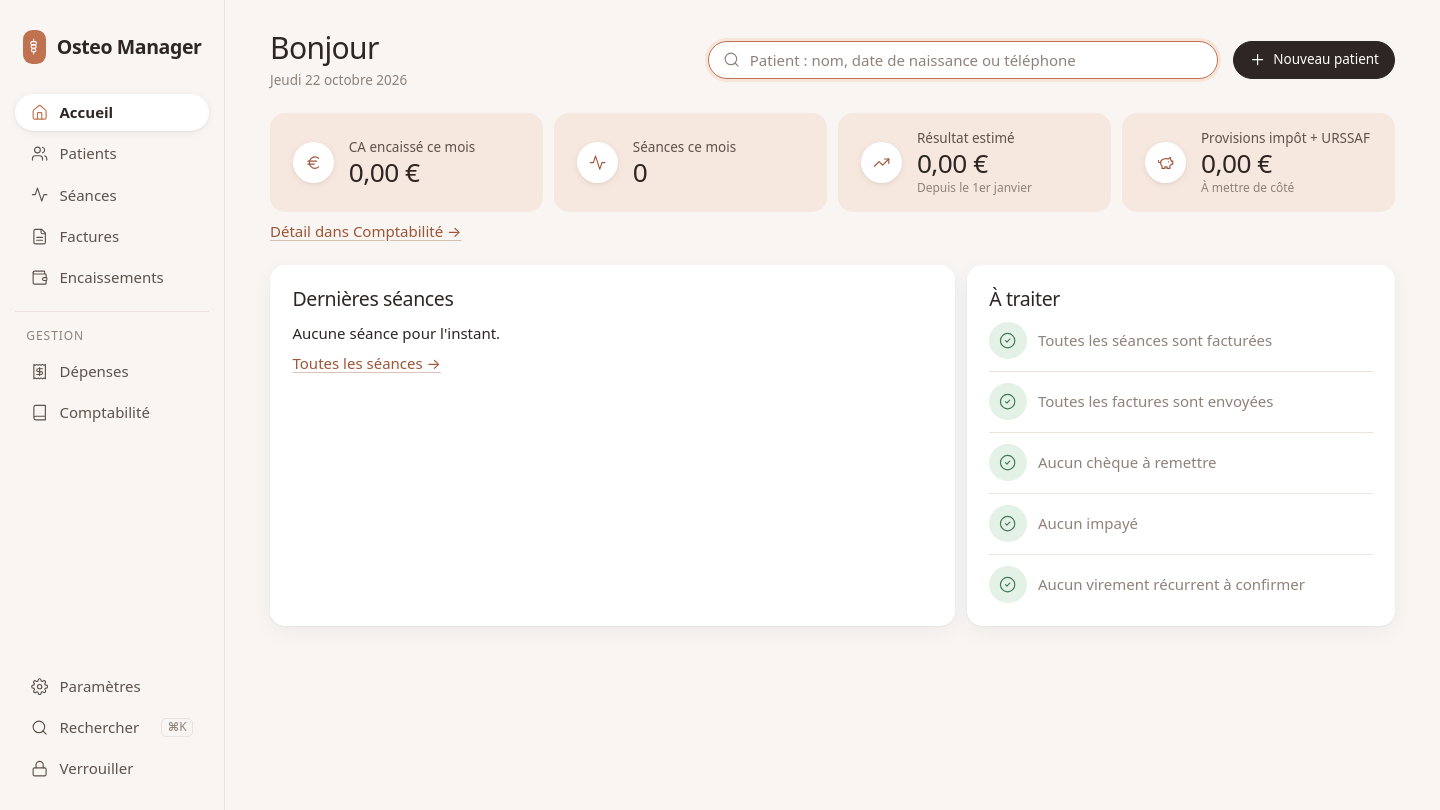
it: tout désélectionner empêche de créer une remise vide
This screenshot has width=1440, height=810.
Click the button "Encaissements".
click(112, 278)  # box x1=15 y1=259 x2=209 y2=296
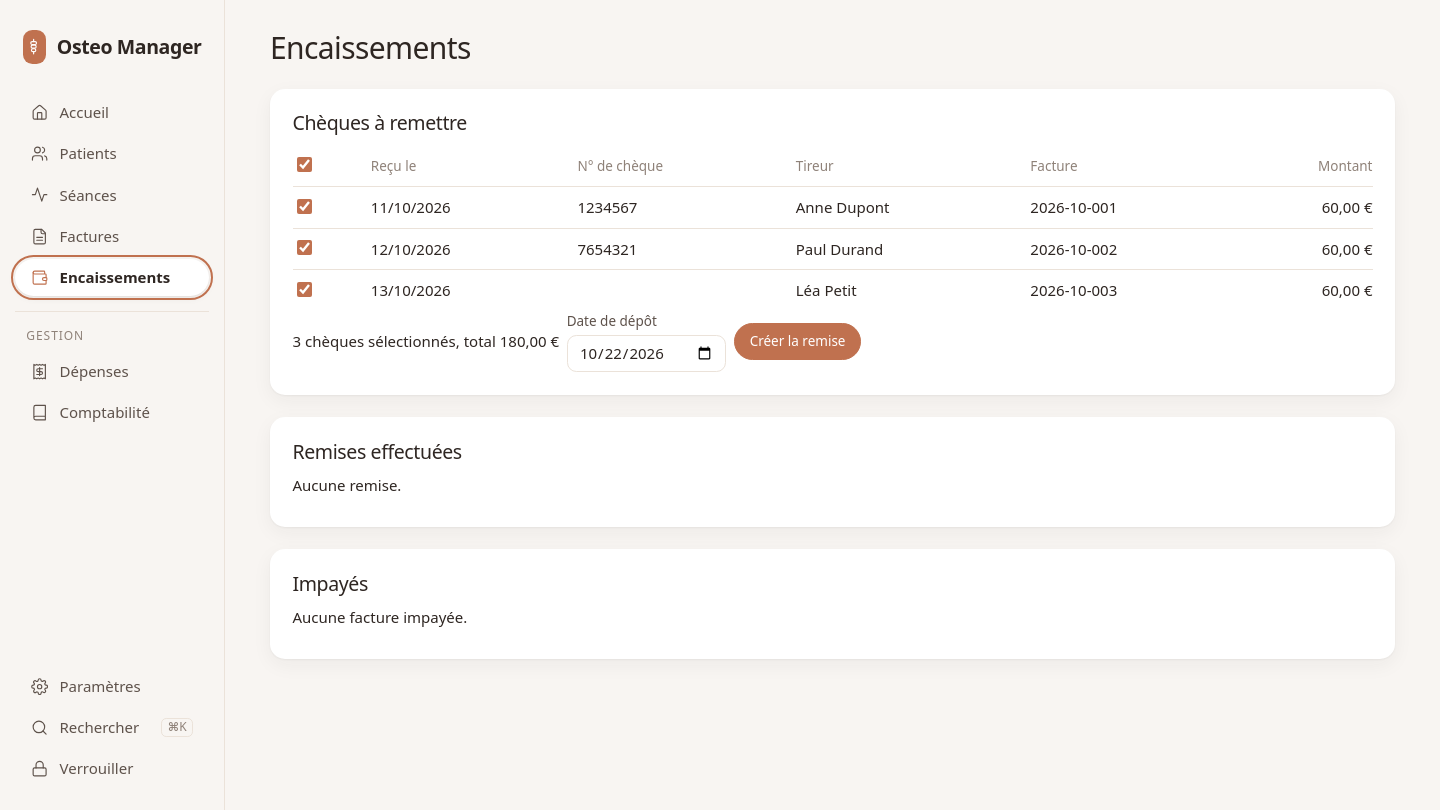
expect the heading "Chèques à remettre" is shown: met, box x1=292 y1=109 x2=467 y2=136
Click the checkbox named "Tout sélectionner".
click(304, 165)  # box x1=296 y1=157 x2=312 y2=172
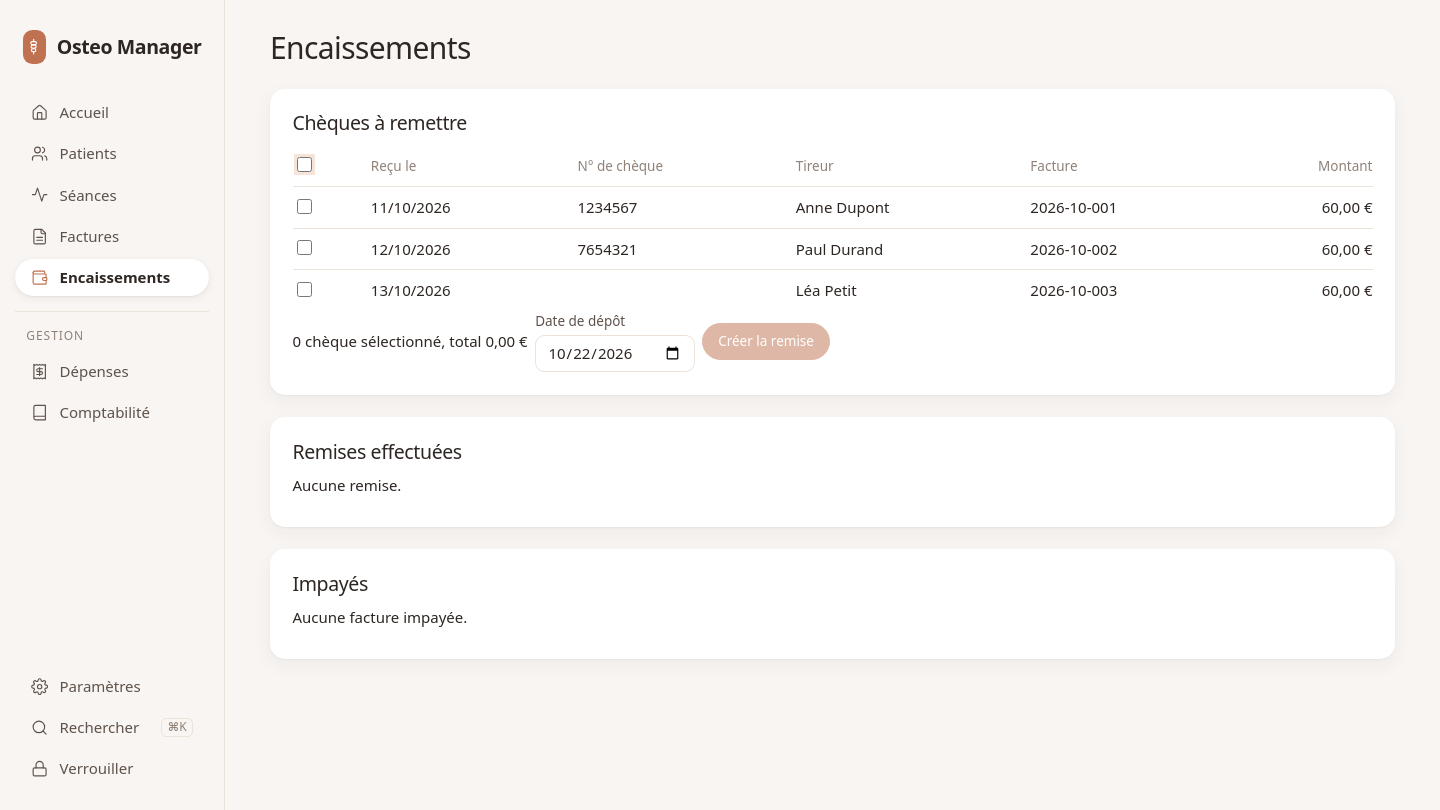
expect the text "0 chèque sélectionné, total 0,00 €" is shown: met, box x1=292 y1=330 x2=528 y2=353
expect the button "Créer la remise" is disabled: met, box x1=702 y1=323 x2=830 y2=360
Click the checkbox named "Tout sélectionner".
click(304, 165)  # box x1=296 y1=157 x2=312 y2=172
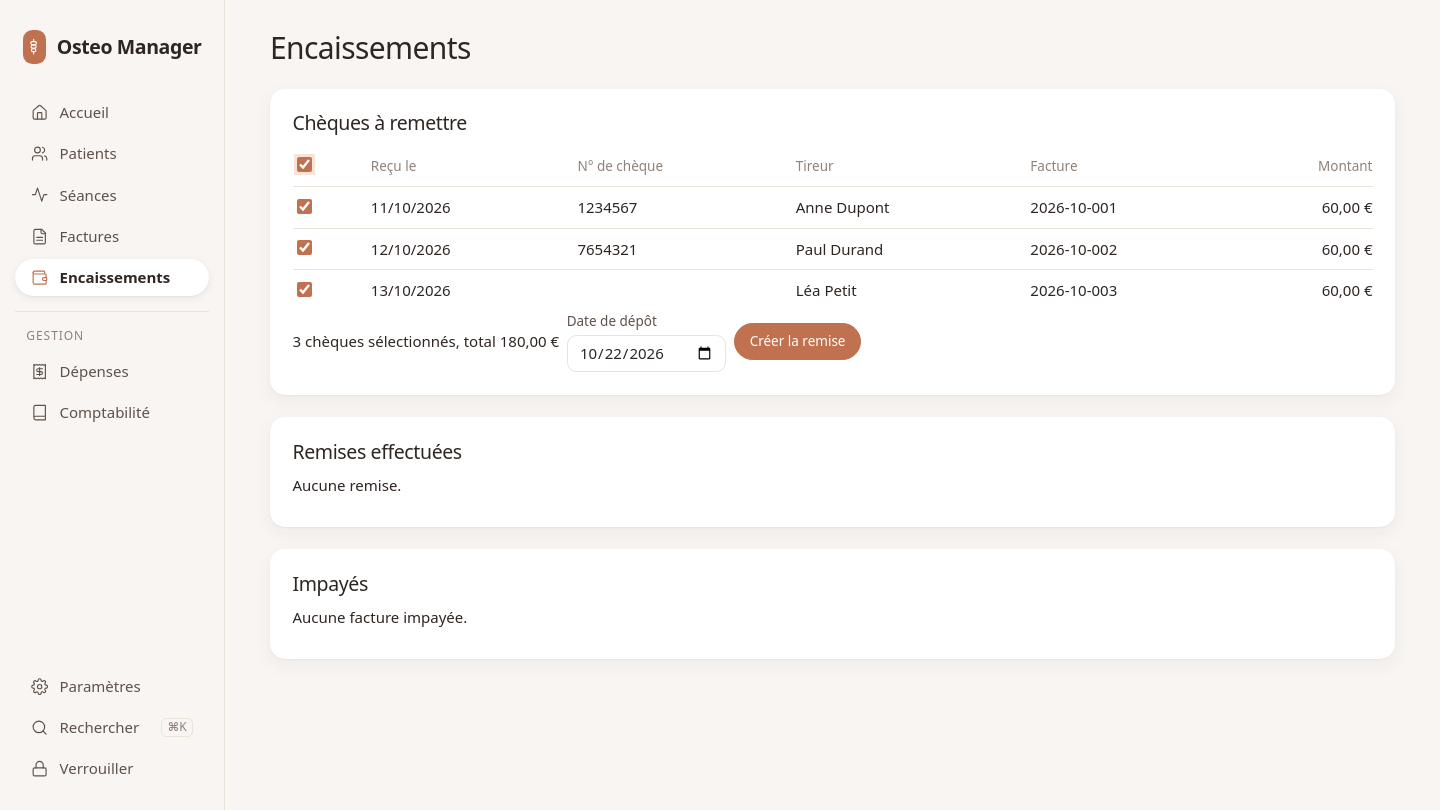
expect the button "Créer la remise" is enabled: met, box x1=734 y1=323 x2=862 y2=360
